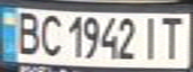1: (63, 12, 84, 59)
2: (115, 15, 142, 61)
4: (100, 14, 121, 61)
9: (78, 13, 103, 60)
B: (9, 8, 42, 56)
C: (36, 11, 63, 56)
I: (139, 14, 163, 61)
T: (157, 12, 187, 61)
